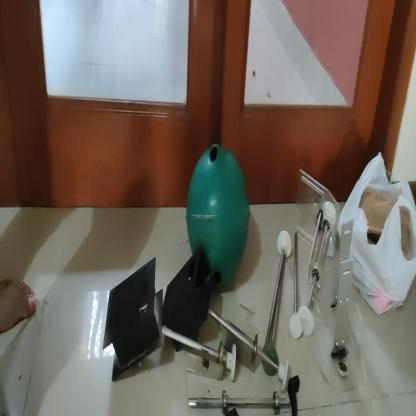green_buoy: (185, 142, 251, 290)
